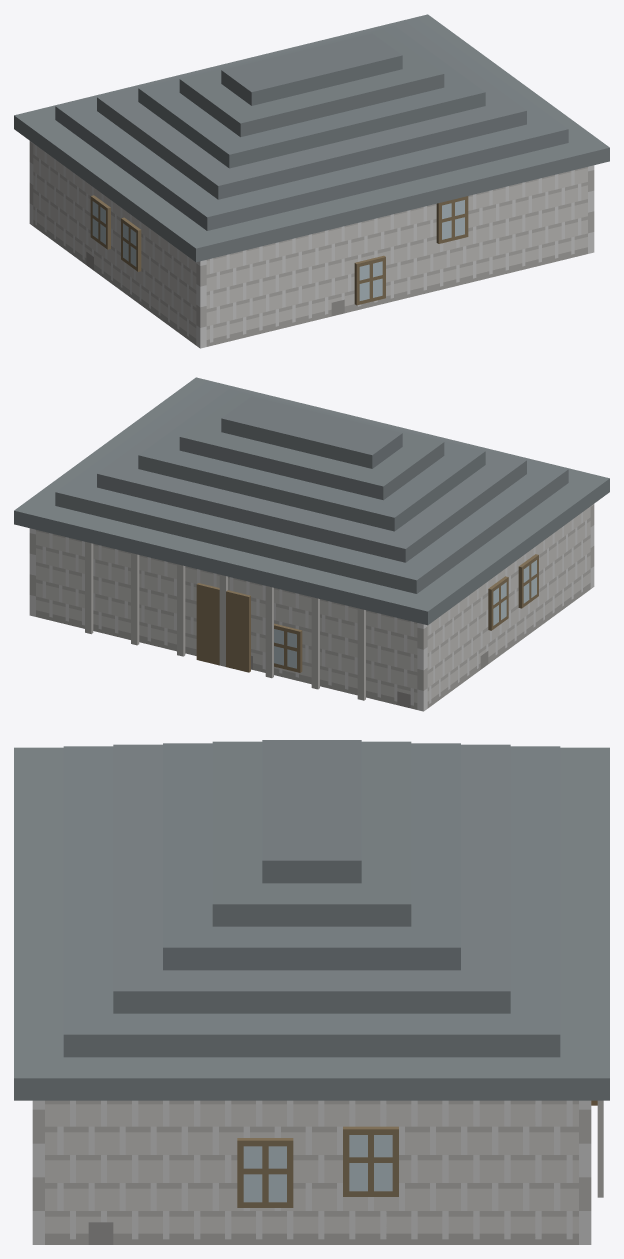
File: salon_jarl_01.glb
3 renders of one model, top to bottom at view 1: azimuth 30°, elevation 25°; view 2: azimuth 150°, elevation 25°; view 3: azimuth 270°, elevation 25°, orthographic. The views are drawn at different scales.
Visible parts, largest first — view 1: salon_jarl_01; view 2: salon_jarl_01; view 3: salon_jarl_01.
Part boxes in pixels (box(x1,y1,x2,y2)): salon_jarl_01: box(14, 14, 609, 348); salon_jarl_01: box(14, 377, 609, 711); salon_jarl_01: box(14, 740, 609, 1244).
Size of the model in its own units: 12.6 by 5.1 by 9.6.
